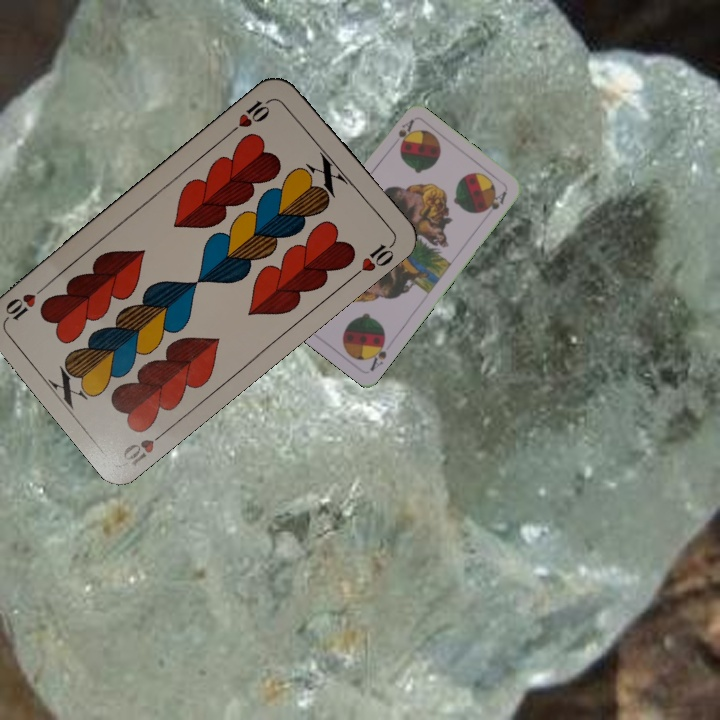H10: (118, 424, 172, 469), (226, 94, 277, 136)
SA: (365, 334, 389, 373), (394, 116, 416, 140)
